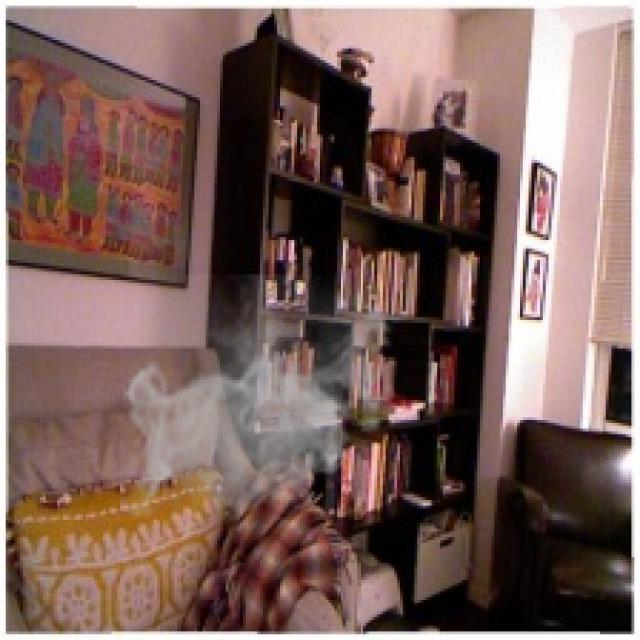smoke: (120, 274, 400, 532)
